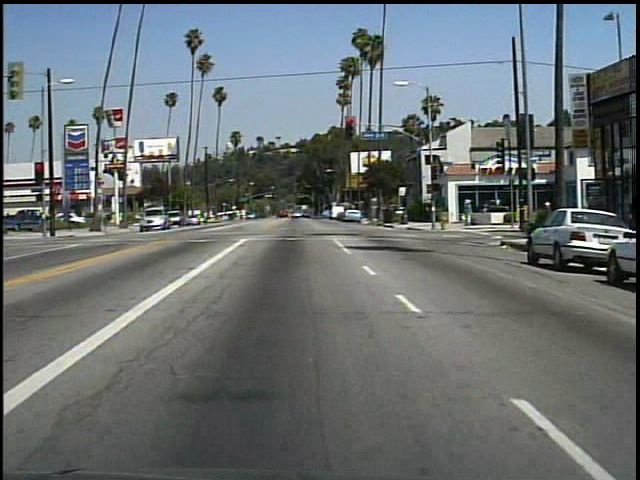person: (536, 194, 559, 235), (459, 194, 475, 227)
